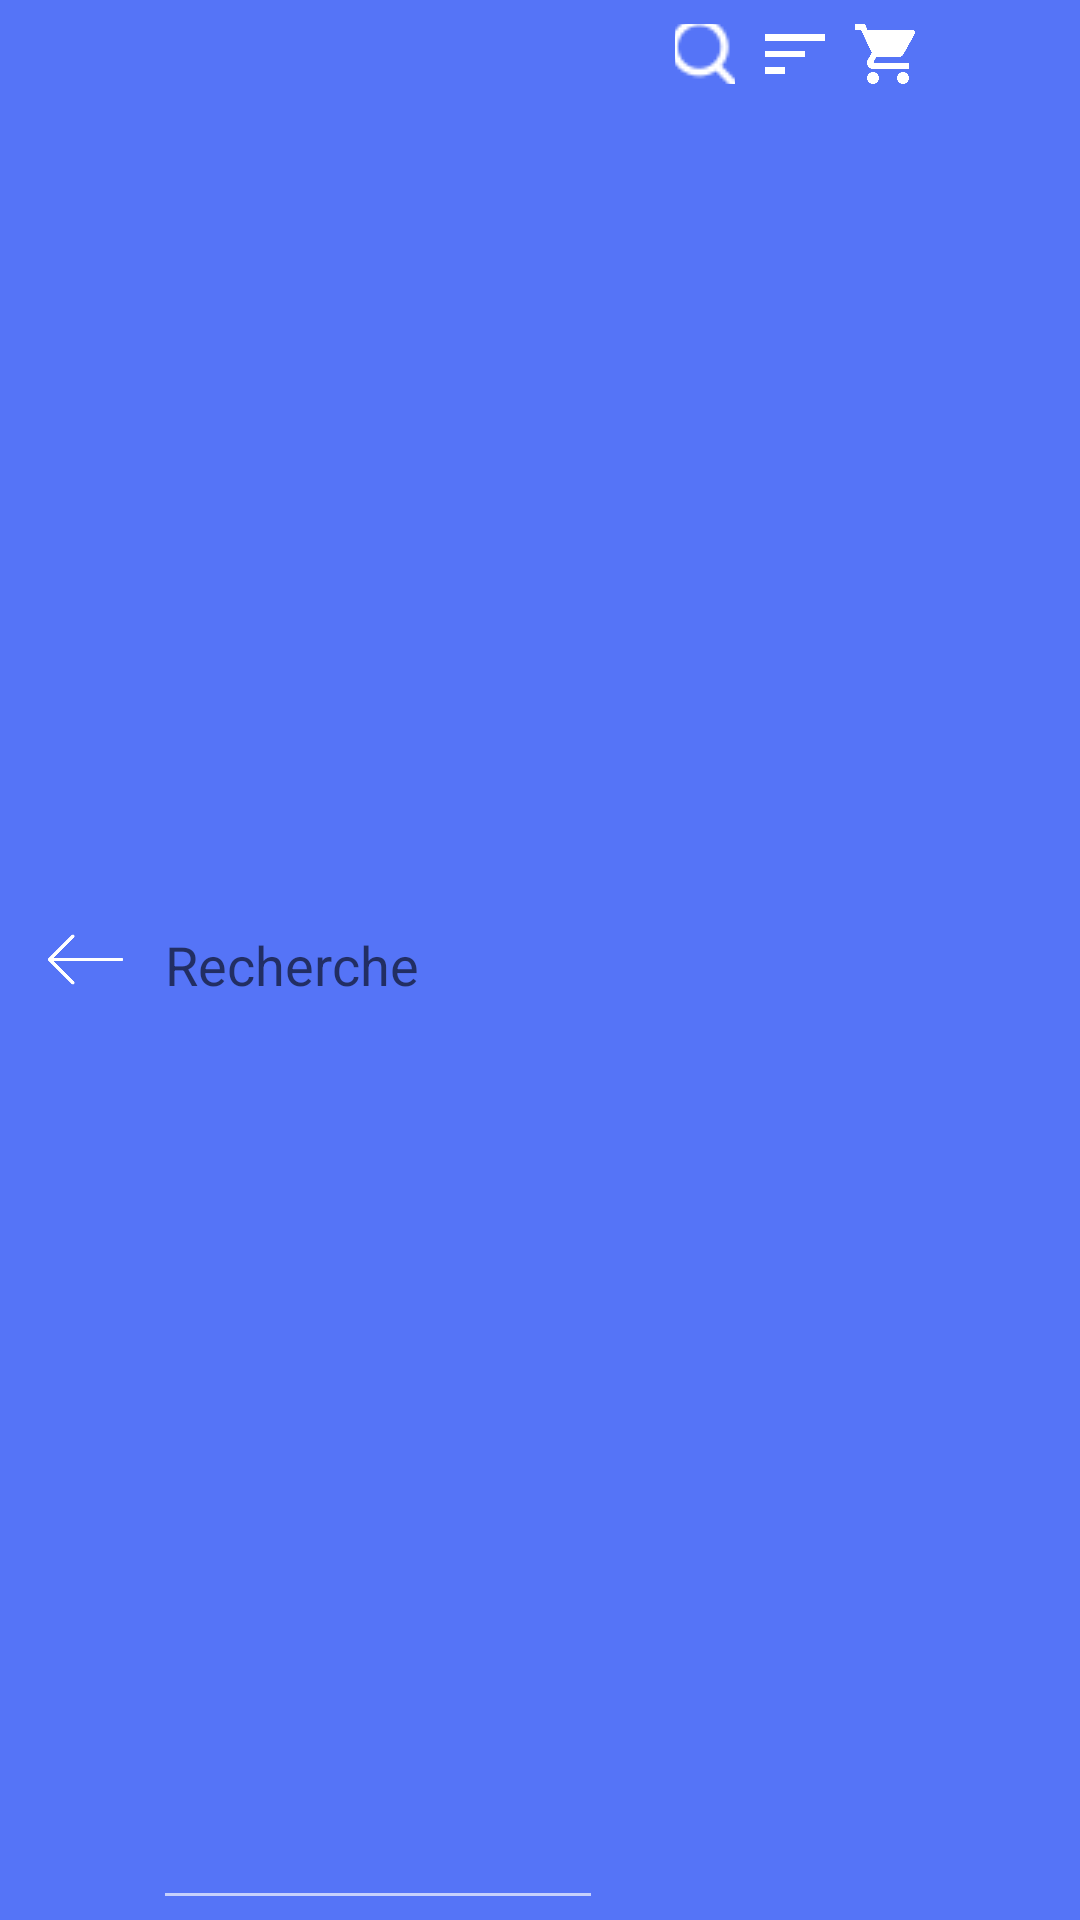

Named icons in this screenshot (1080 × 1920) and their centers, (x=x, y=y):
cart: (x=885, y=54)
left: (x=85, y=959)
sort: (x=795, y=54)
